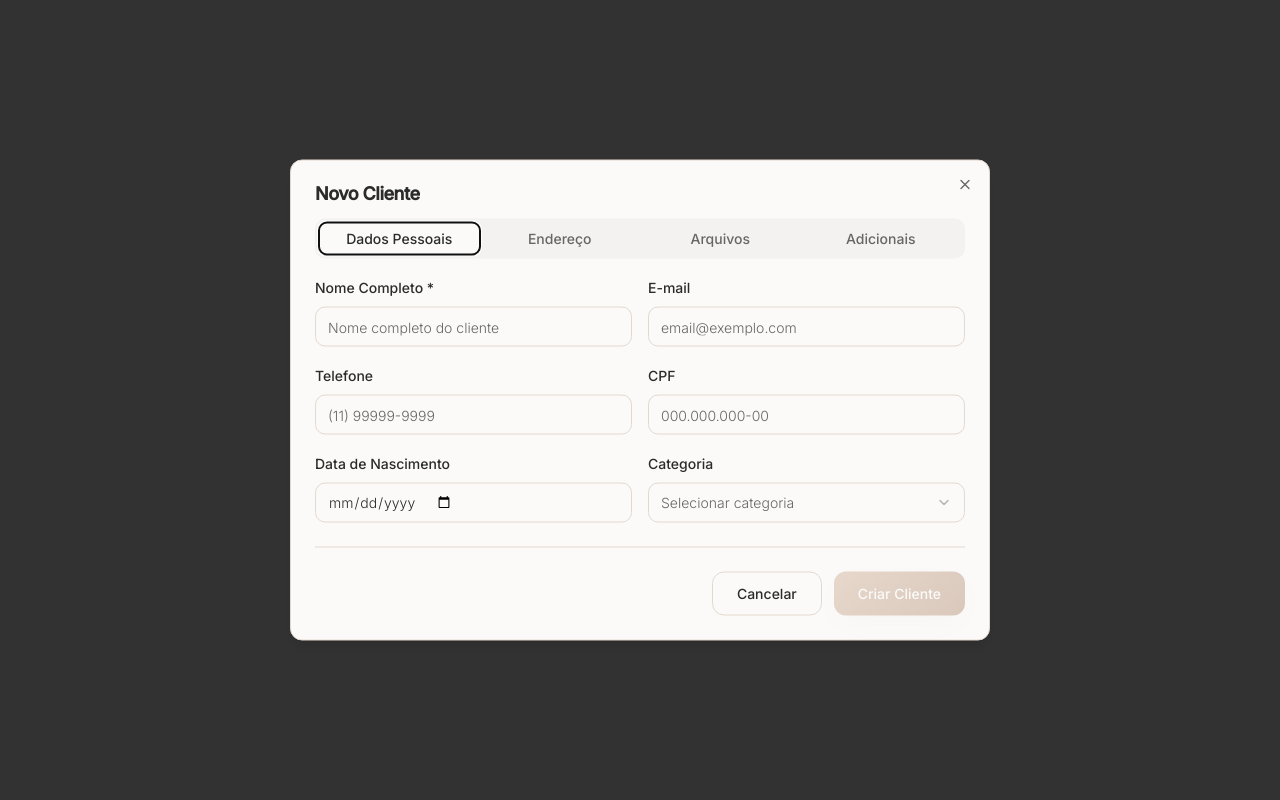
Scenario: NovoClienteModal › formats phone number correctly
This screenshot has width=1280, height=800.
Type "11999999999" into the field labelled "Telefone" at (474, 414), box [315,394,632,434]
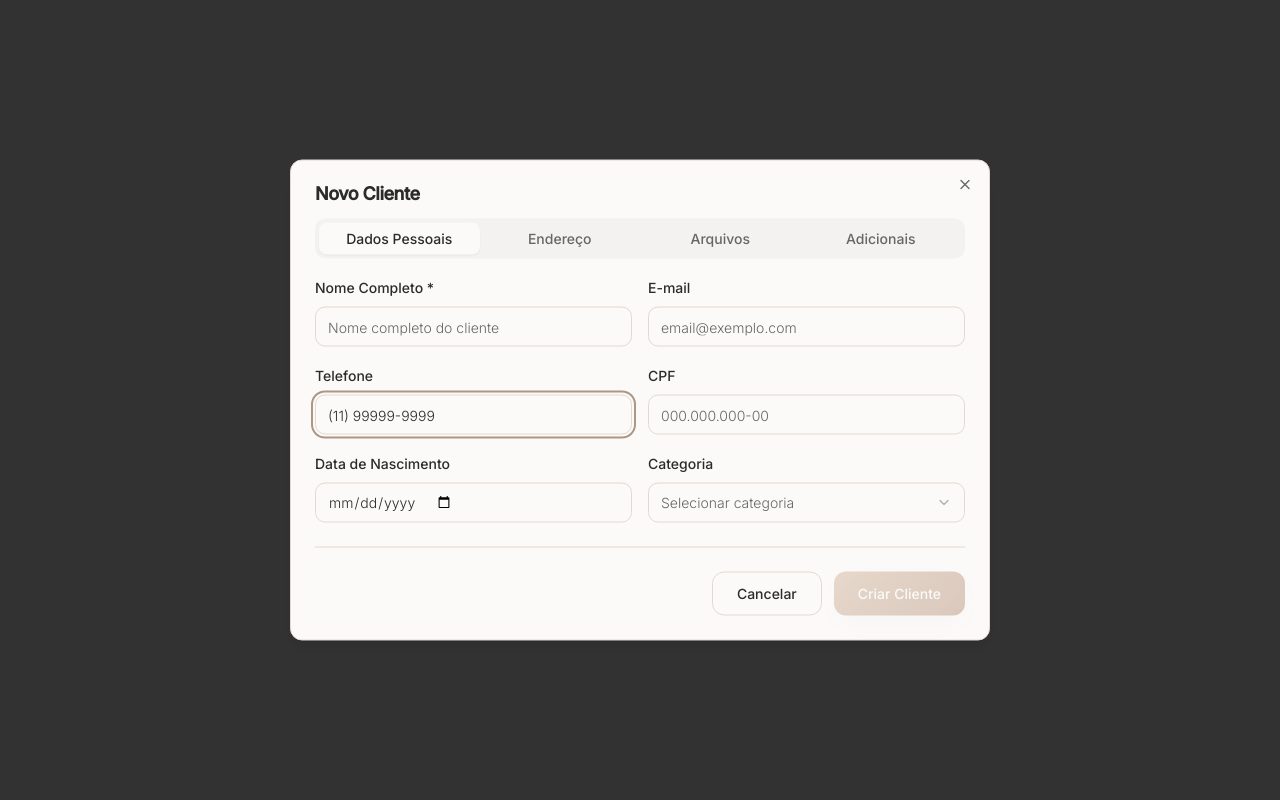
Expected: the field labelled "Telefone" holds "(11) 99999-9999", [315,394,632,434]
